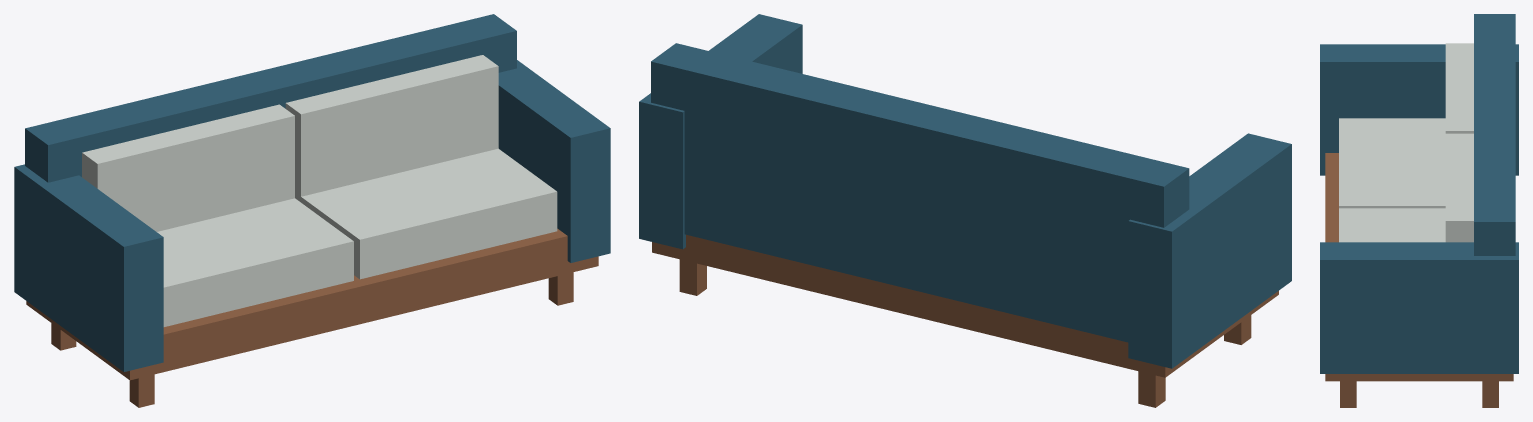
Rendered from lounge-sofa.glb.
3 views of the same model, side by side, from view 1: azimuth 30°, elevation 25°; view 2: azimuth 150°, elevation 25°; view 3: azimuth 270°, elevation 25° (orthographic). The views are drawn at different scales.
Parts seen in each view (by area): view 1: lounge-sofa; view 2: lounge-sofa; view 3: lounge-sofa.
Part boxes in pixels (left/top/right/bottom): lounge-sofa: left=14, top=14, right=610, bottom=407; lounge-sofa: left=639, top=14, right=1291, bottom=407; lounge-sofa: left=1320, top=14, right=1518, bottom=407.
Bounding box in the file's own units: 2.44 × 1.02 × 0.95.
